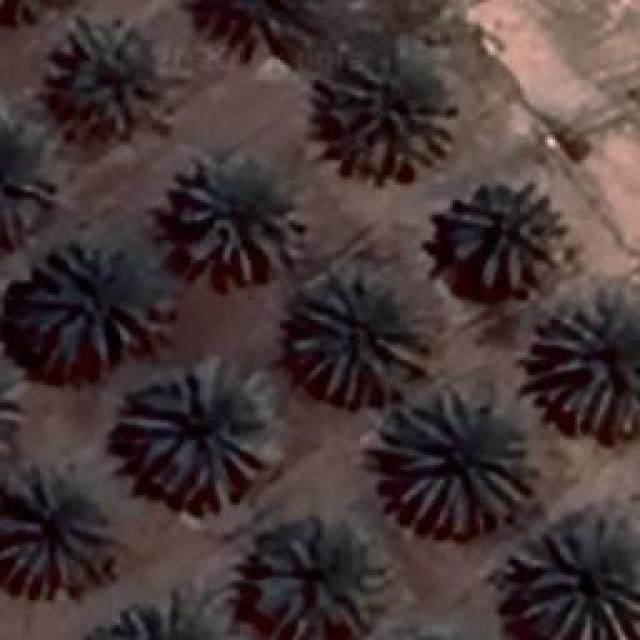PalmTree: (378, 390, 532, 535), (120, 362, 270, 508), (290, 275, 428, 403), (324, 52, 458, 178), (20, 245, 155, 370), (178, 160, 310, 285), (534, 285, 638, 433), (512, 520, 638, 638), (252, 530, 386, 638), (442, 172, 562, 290), (0, 467, 110, 595), (65, 18, 173, 132), (190, 0, 328, 70), (12, 124, 45, 404), (92, 592, 232, 638), (0, 0, 71, 23), (381, 630, 505, 640)
